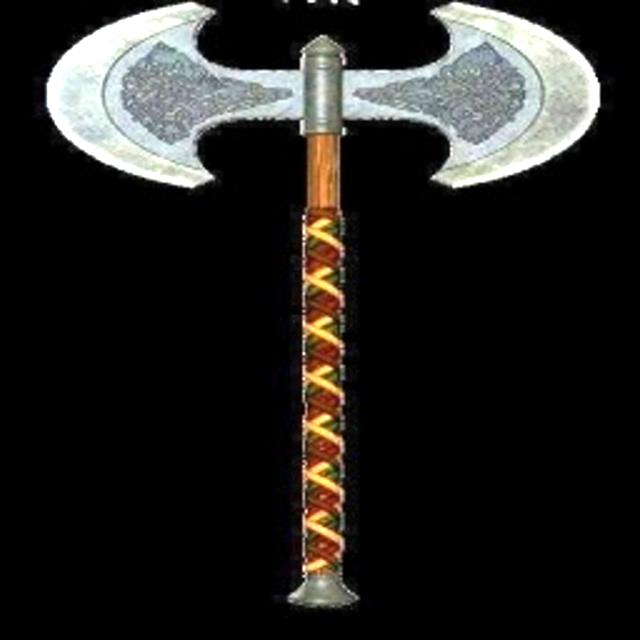ax: (43, 0, 606, 614)
